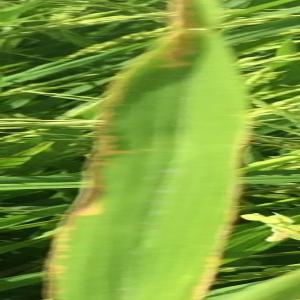Bacterial_Blight: (47, 38, 255, 300)
